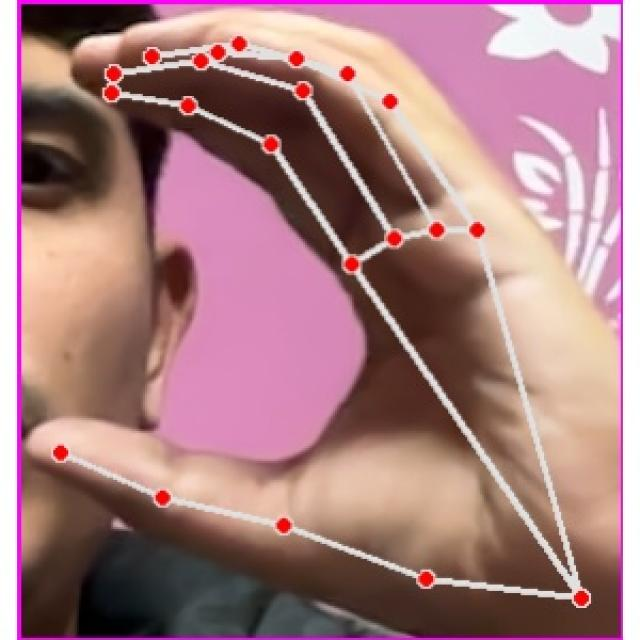C: (39, 27, 625, 640)
